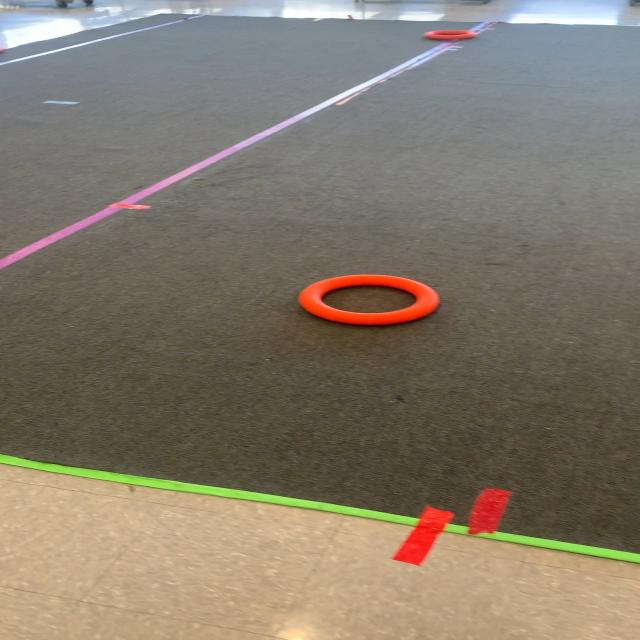notes: (297, 272, 445, 328), (421, 29, 481, 40)
